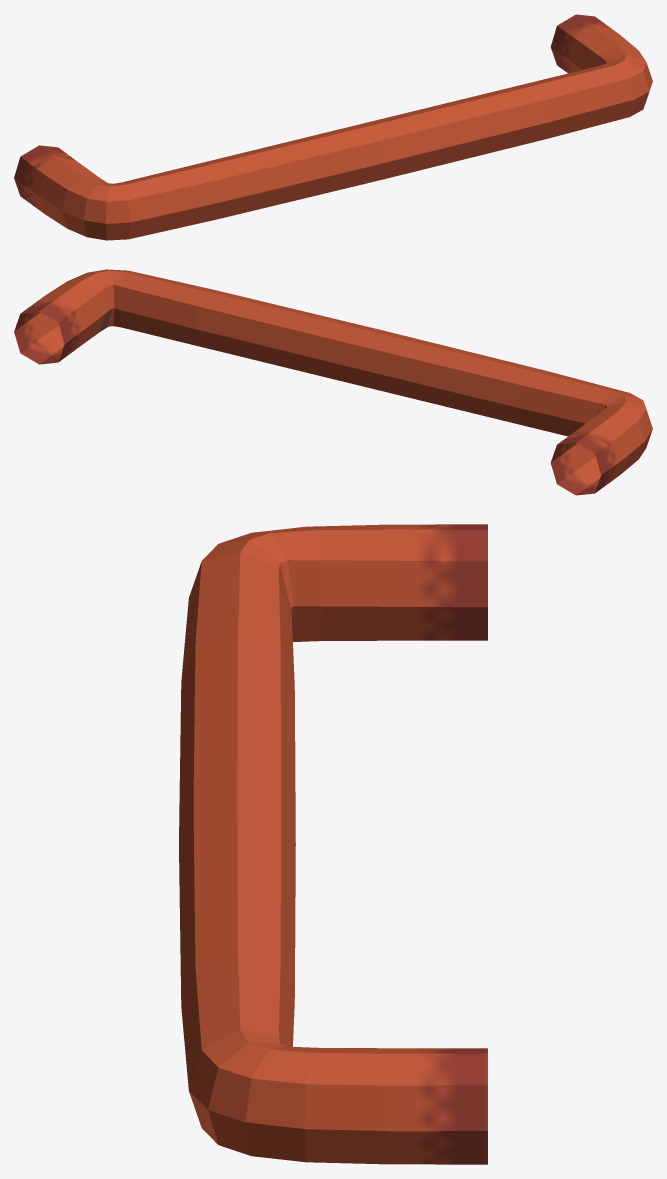
File: pipe.fbx
3 renders of one model, top to bottom at view 1: azimuth 30°, elevation 25°; view 2: azimuth 150°, elevation 25°; view 3: azimuth 270°, elevation 25°, orthographic. The views are drawn at different scales.
Visible parts, largest first — view 1: Pipe_1; view 2: Pipe_1; view 3: Pipe_1.
Boxes of the visible parts, left/top/right/bottom form: Pipe_1: left=14, top=14, right=652, bottom=240; Pipe_1: left=14, top=269, right=652, bottom=495; Pipe_1: left=179, top=524, right=487, bottom=1164.
Size of the model in its own units: 244 by 21.21 by 55.64.
Materials: 1 (1 with a texture image).
